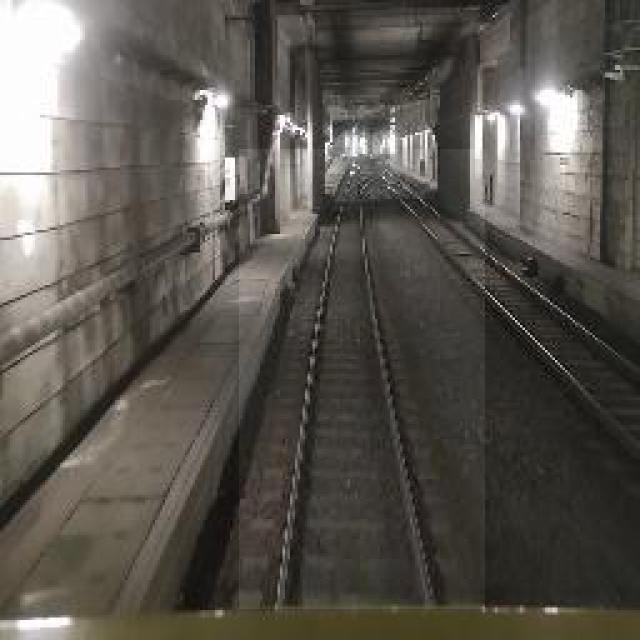rail: (240, 151, 486, 610)
